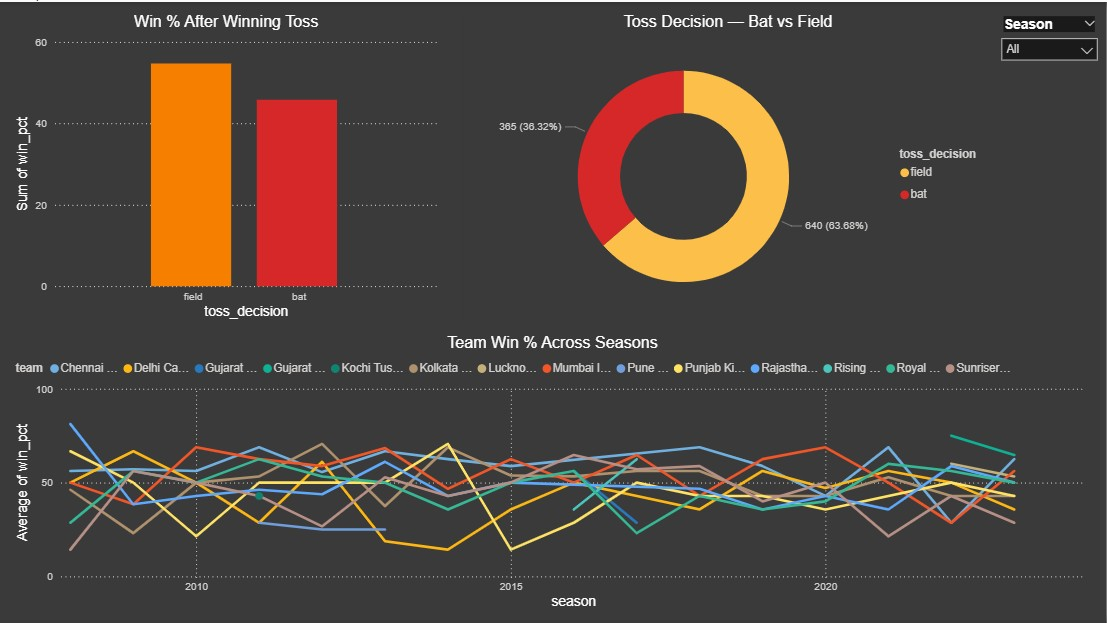

Layout of this report page (visuals, bound fields, positions):
{"tool":"powerbi","page":{"name":"Team & Toss","canvas":[1280,720],"ordinal":3},"visuals":[{"type":"donutChart","title":"Toss Decision — Bat vs Field","fields":{"Y":["Sum(toss_impact.total_matches)"],"Category":["toss_impact.toss_decision"]},"box":[536.5,11.6,611.7,360.1],"z":0},{"type":"lineChart","title":"Team Win % Across Seasons","fields":{"Category":["team_win_by_season.season"],"Y":["Avg(team_win_by_season.win_pct)"],"Series":["team_win_by_season.team"]},"box":[13,383.2,1252.3,323.9],"z":1000},{"type":"clusteredColumnChart","title":"Win % After Winning Toss","fields":{"Category":["toss_impact.toss_decision"],"Y":["Sum(toss_impact.win_pct)"]},"box":[13,11.6,497.4,360.1],"z":2000},{"type":"slicer","fields":{"Values":["team_win_by_season.season"]},"box":[1148.1,11.6,131.6,78.1],"z":3000}]}

Visuals, with their boxes in screenshot pixels (x1, y1, x2, y2), scaled from the page's 1280x720 canvas onto the 1107x623 screenshot:
"Toss Decision — Bat vs Field" donutChart: bbox=(464, 10, 993, 322)
"Team Win % Across Seasons" lineChart: bbox=(11, 332, 1094, 612)
"Win % After Winning Toss" clusteredColumnChart: bbox=(11, 10, 441, 322)
slicer - team_win_by_season.season: bbox=(993, 10, 1106, 78)
